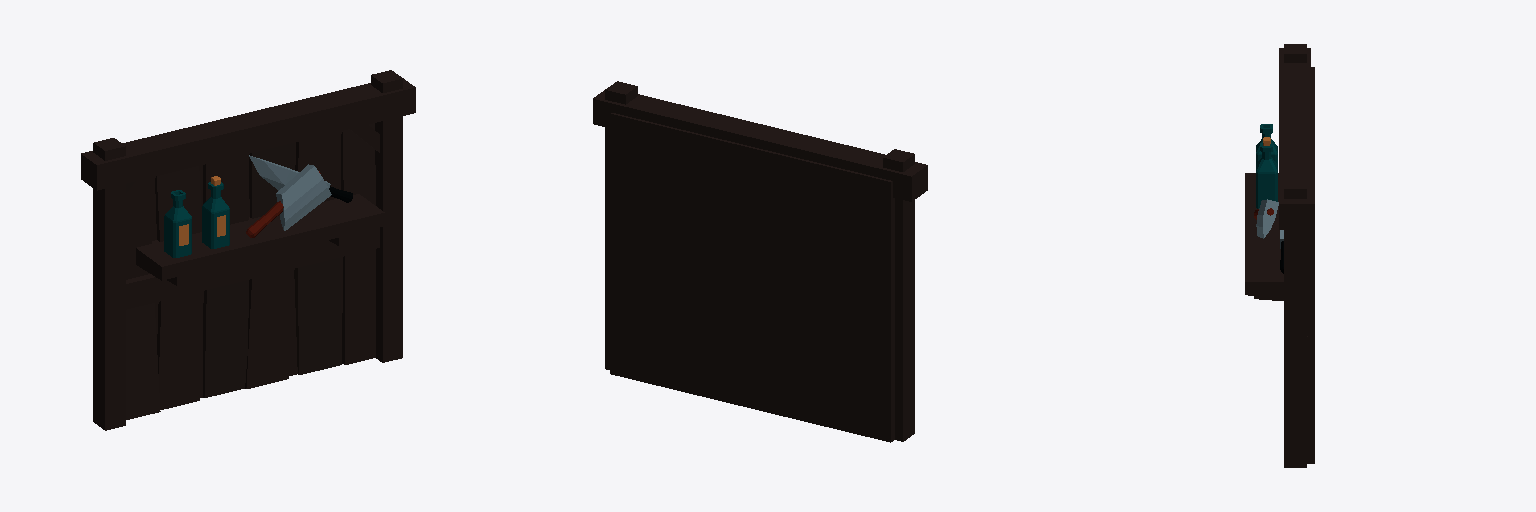
File: butcherwall.obj
The picture shows the model from 3 angles: view 1: azimuth 30°, elevation 25°; view 2: azimuth 150°, elevation 25°; view 3: azimuth 270°, elevation 25°; orthographic projection.
Parts seen in each view (by area): view 1: butcherwall_Cube.058; view 2: butcherwall_Cube.058; view 3: butcherwall_Cube.058.
Boxes of the visible parts, x1=… form: butcherwall_Cube.058: x1=81, y1=70, x2=415, y2=430; butcherwall_Cube.058: x1=593, y1=81, x2=927, y2=442; butcherwall_Cube.058: x1=1245, y1=44, x2=1314, y2=467.
Bounding box in the file's own units: 3.15 × 2.64 × 0.5927.